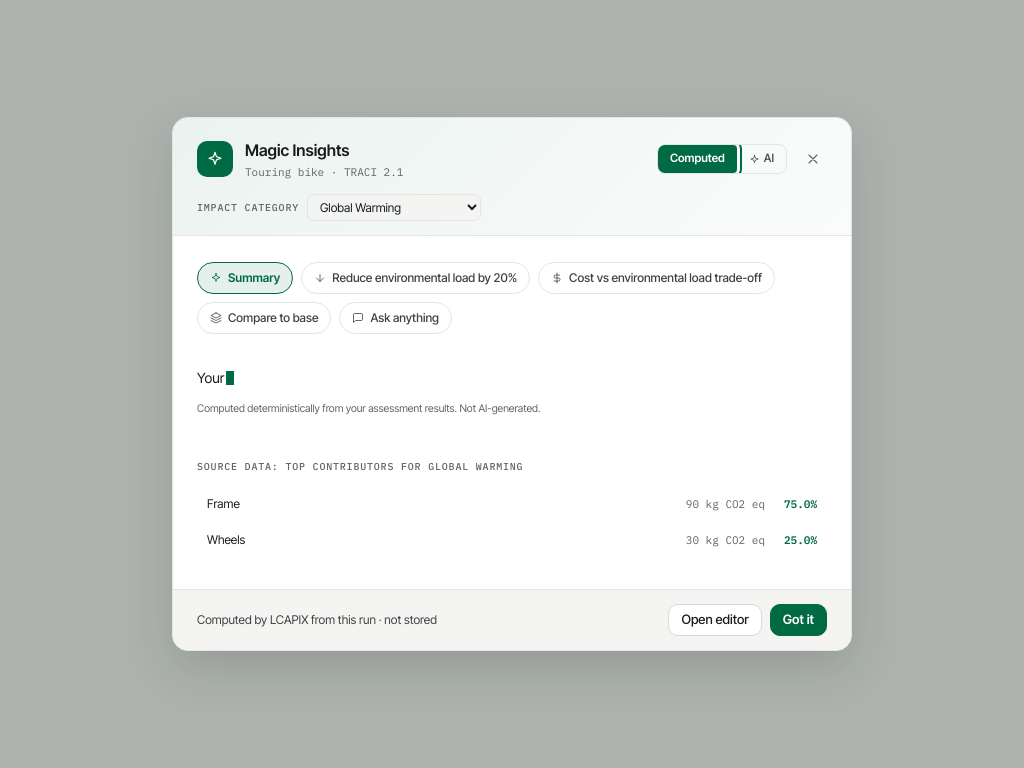
Test: <MagicInsightsModal> AI limits › sends one narration request for a typed reduce target, not one per keystroke
The width and height of the screenshot is (1024, 768).
Click the button "AI": (761, 159) [737,146,786,173]
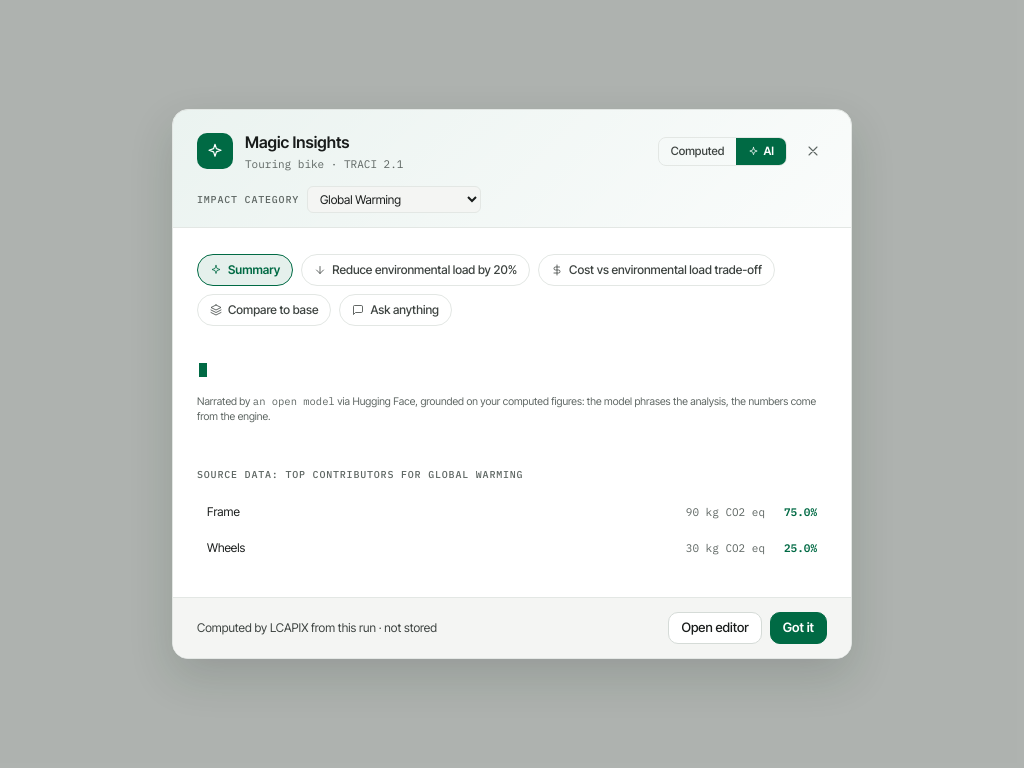
Click the button "Reduce environmental load by 20%": (416, 270) [301,254,530,286]
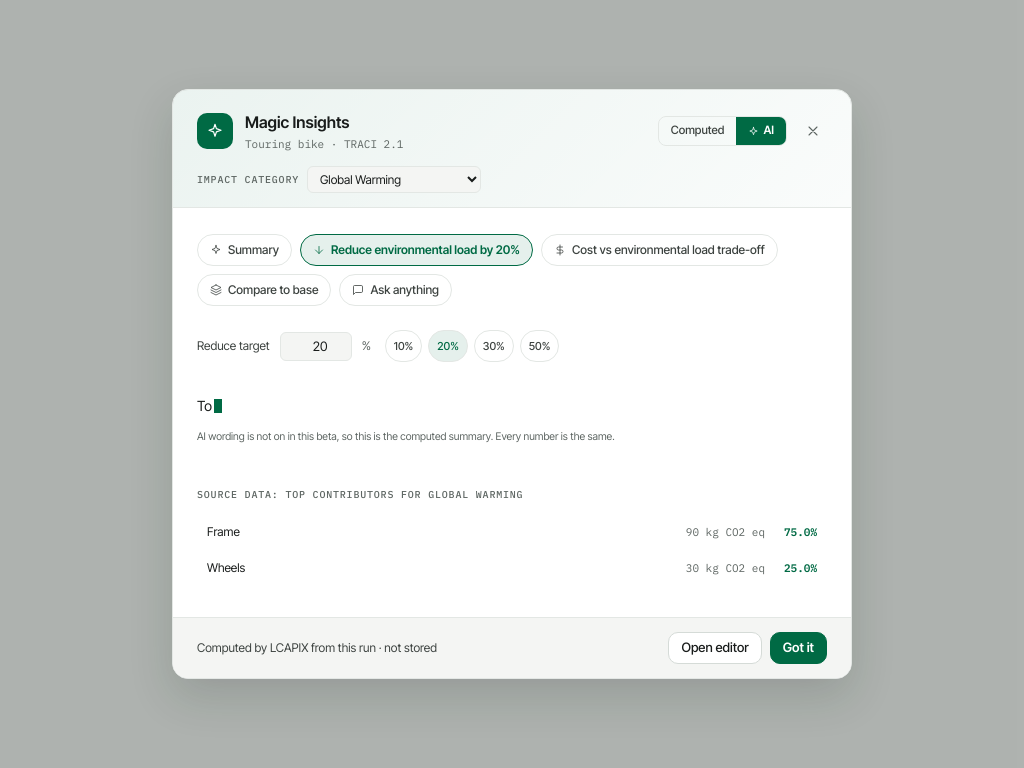
Replace the text in the number field with "3": (316, 346) [280,332,352,361]
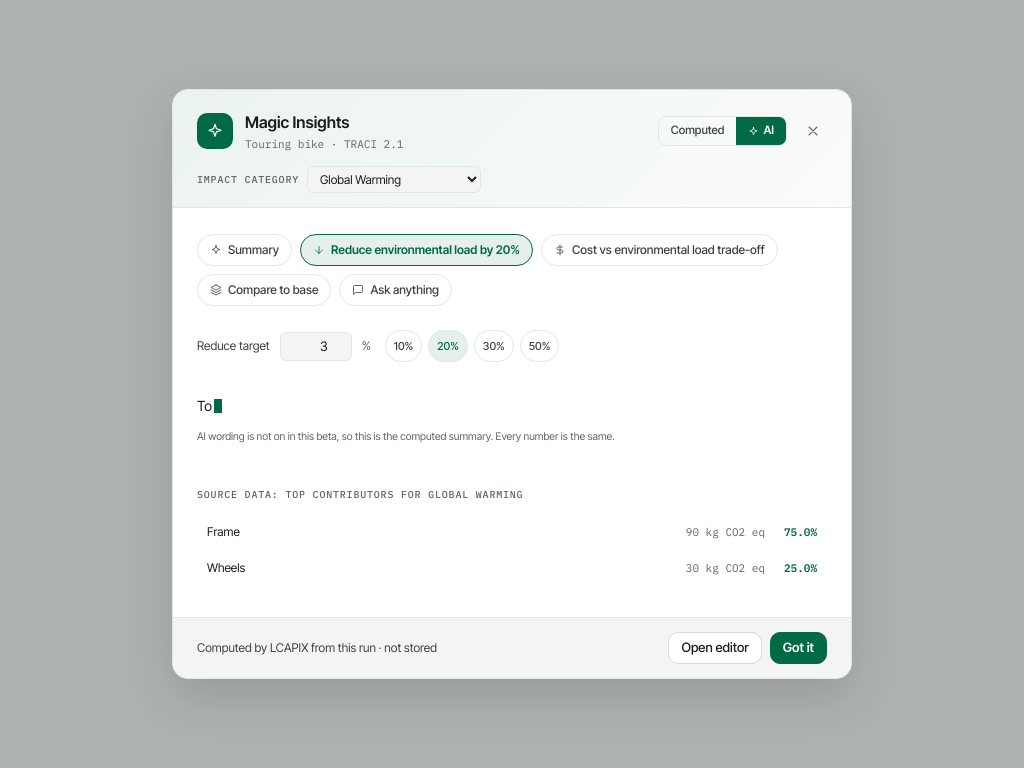
Replace the text in the number field with "35": (316, 346) [280,332,352,361]
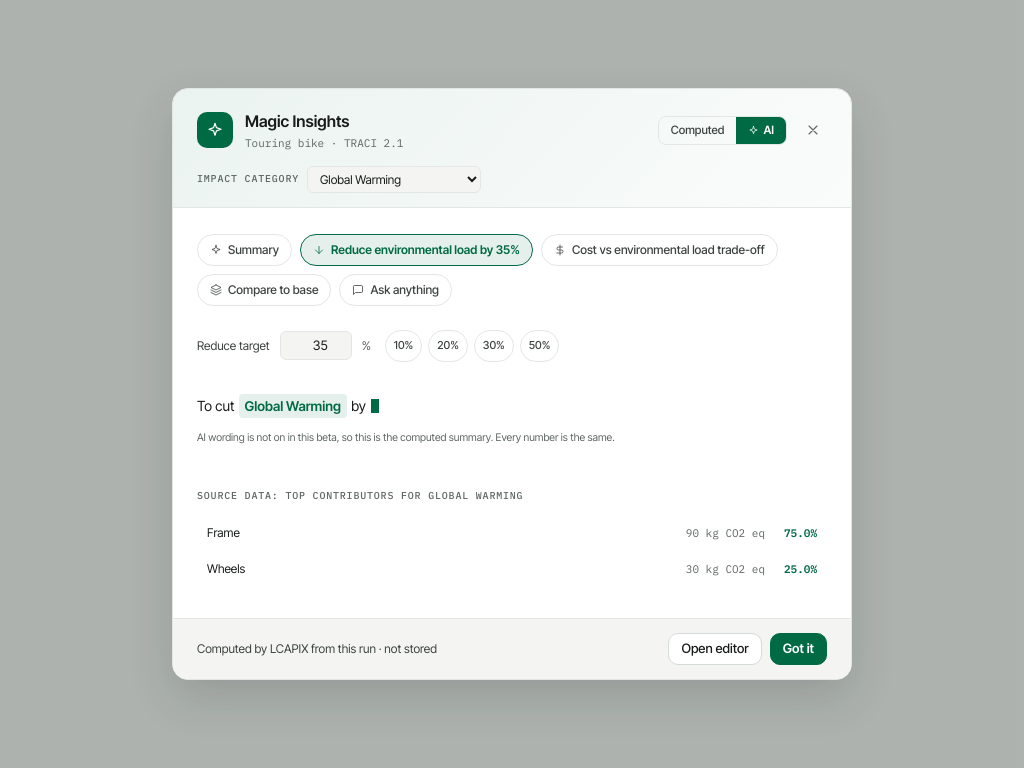
Result: the button "Reduce environmental load by 35%" is shown at [300,234,533,266]
